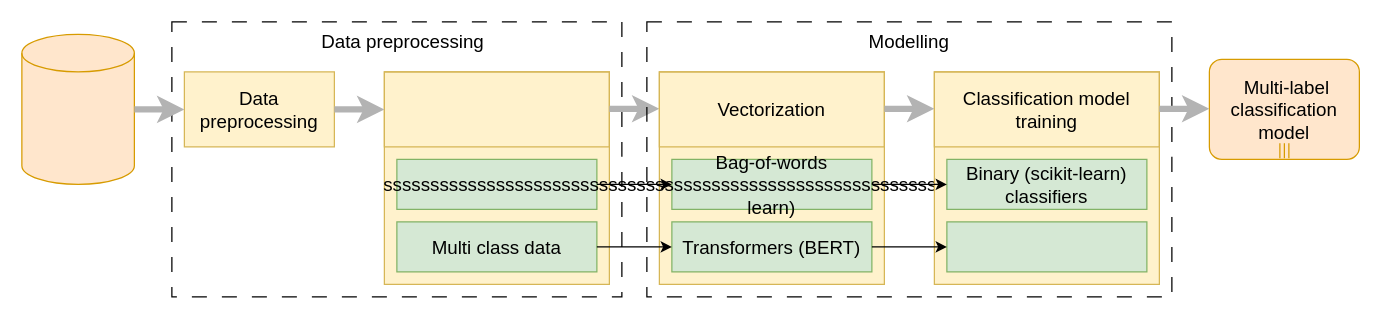
Some shapes in this 1381 by 319 pixel diagram are drawn without their labels. The centre of each missing label's shape, as x and y in pixels:
Binary class data: the point at 496,183
Collection of labelled READMEs: the point at 77,108
Data balancing: the point at 496,109
Multi-class (TensorFlow) classifier: the point at 1046,246
